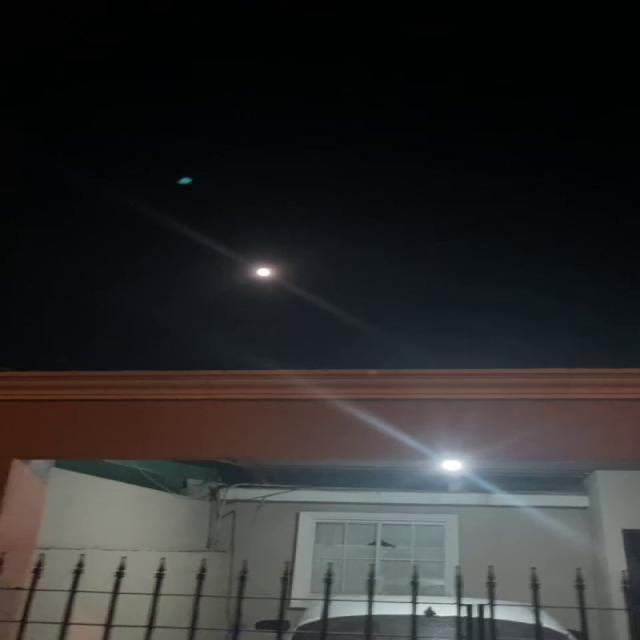moon: (249, 264, 285, 290)
